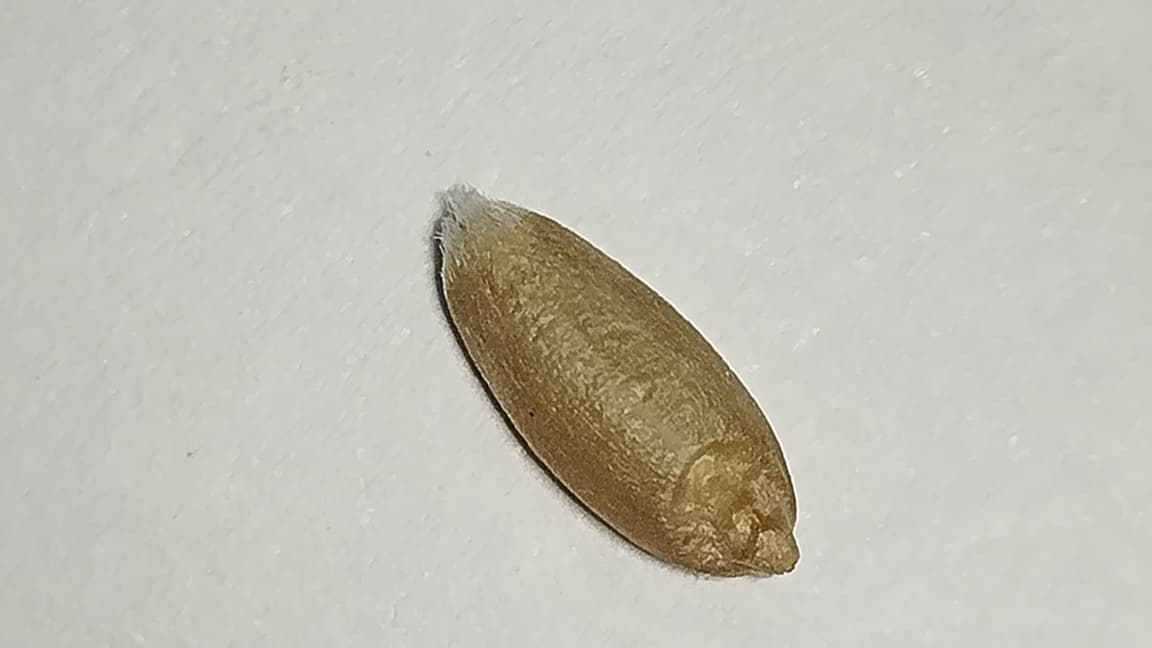healthy: (439, 185, 798, 575)
